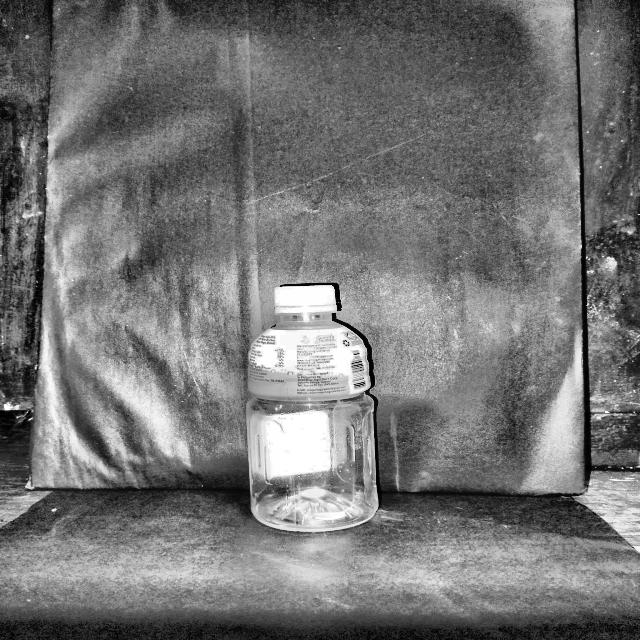Plastic-Bottle: (243, 282, 383, 535)
